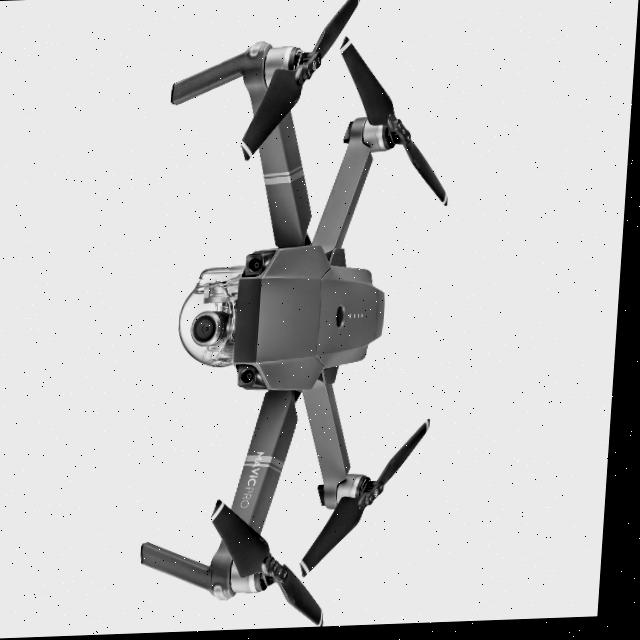drone: (107, 0, 497, 636)
